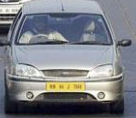car: (1, 1, 133, 115)
